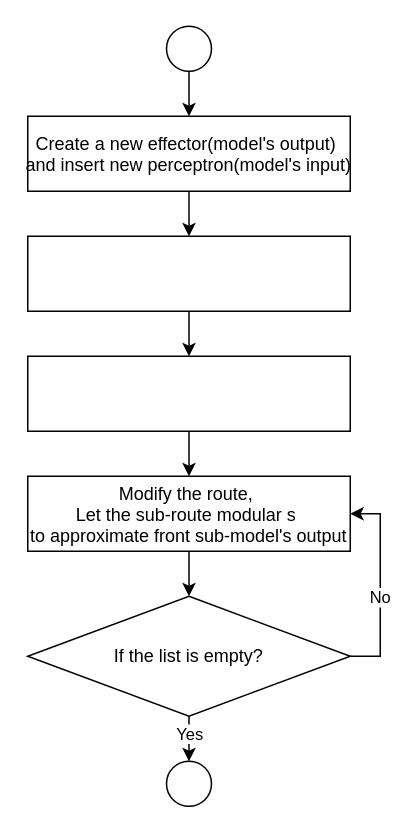
Image size: 419x833. Some labels were removed from this diagram. Here are the shapes that lost their labels. From the top down, the centre of each, then its label:
the point at 188,273: Divide the network to be integrated into several sub-networks
the point at 188,393: Initialize global route
